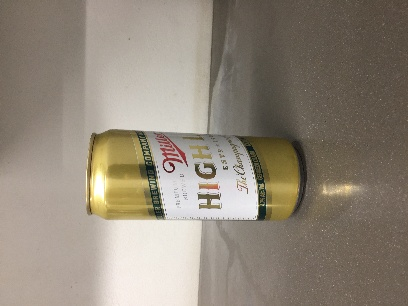ML: (62, 93, 220, 160)
